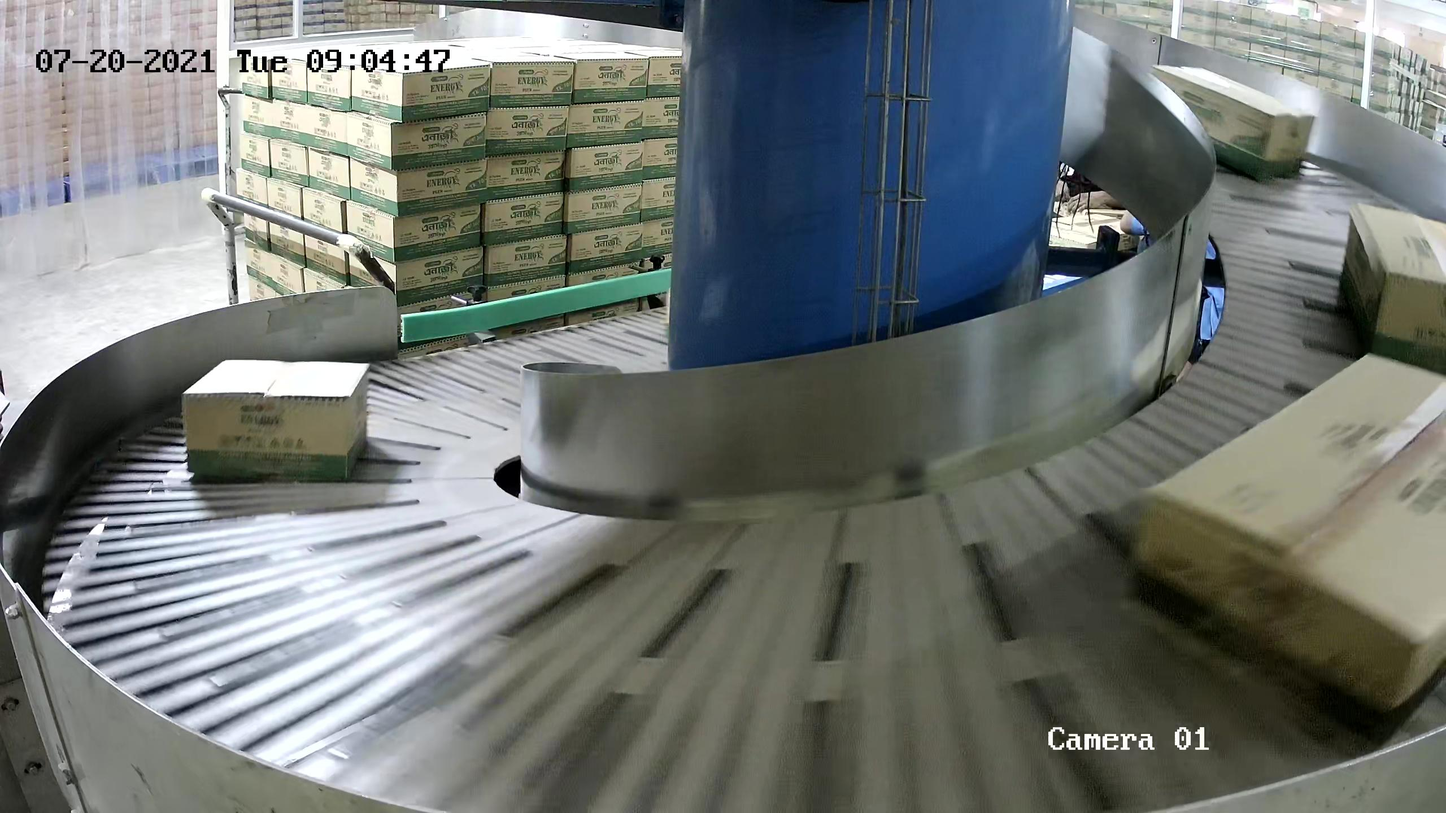Box: (1125, 344, 1446, 750), (180, 358, 371, 484), (1149, 62, 1318, 184), (1338, 201, 1446, 375)
